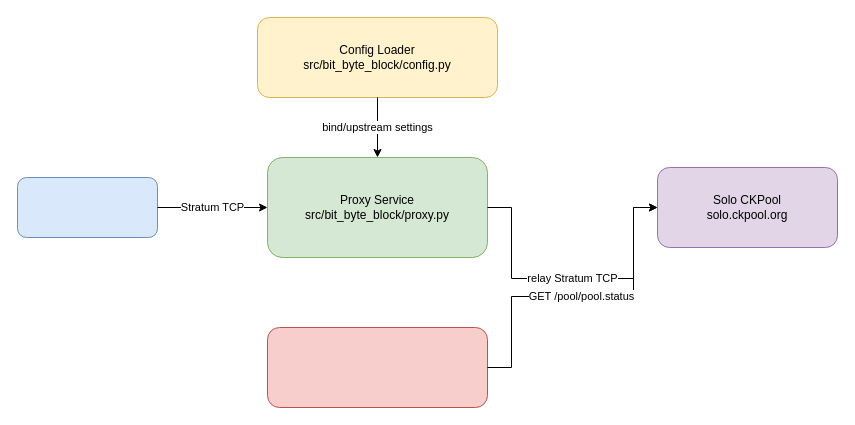
Some shapes in this 855 by 425 pixel diagram are drawn without their labels. Here are the shapes that lost their labels. From the top down, the centre of each, then its label:
the point at 87,207: Local ASICs
the point at 377,367: Status Client src/bit_byte_block/monitor.py
